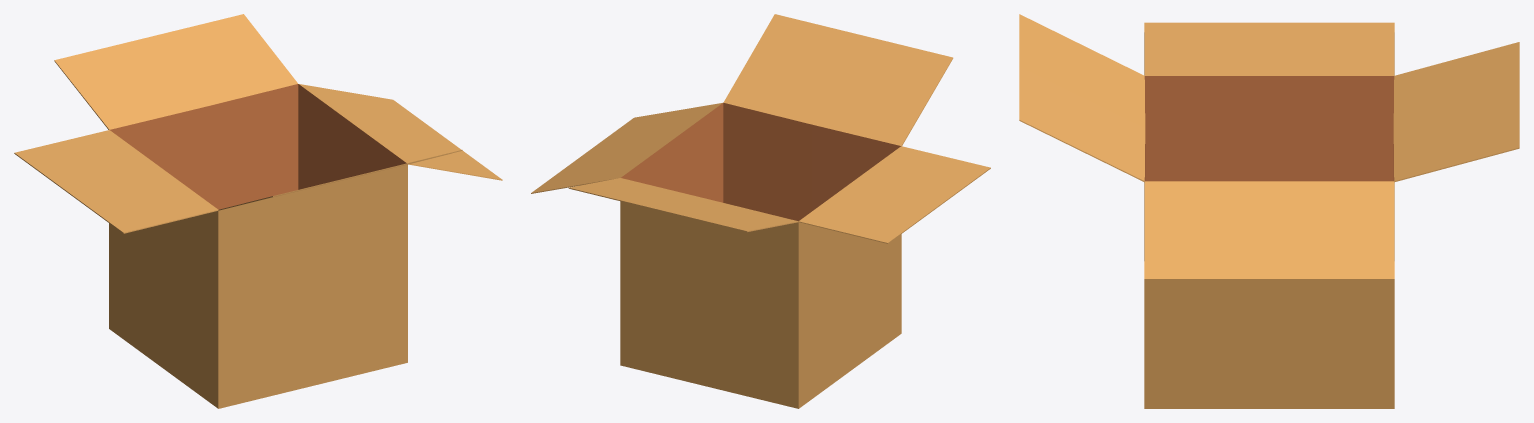
The picture shows the model from 3 angles, left to right: view 1: azimuth 30°, elevation 25°; view 2: azimuth 150°, elevation 25°; view 3: azimuth 270°, elevation 25°; orthographic projection. The views are drawn at different scales.
Parts seen in each view (by area): view 1: Cube.001; view 2: Cube.001; view 3: Cube.001.
Boxes of the visible parts, x1,y1,x2,y2 form: Cube.001: (14, 14, 502, 408); Cube.001: (531, 14, 990, 408); Cube.001: (1019, 14, 1519, 408).
Size of the model in its own units: 400 by 255 by 400.
